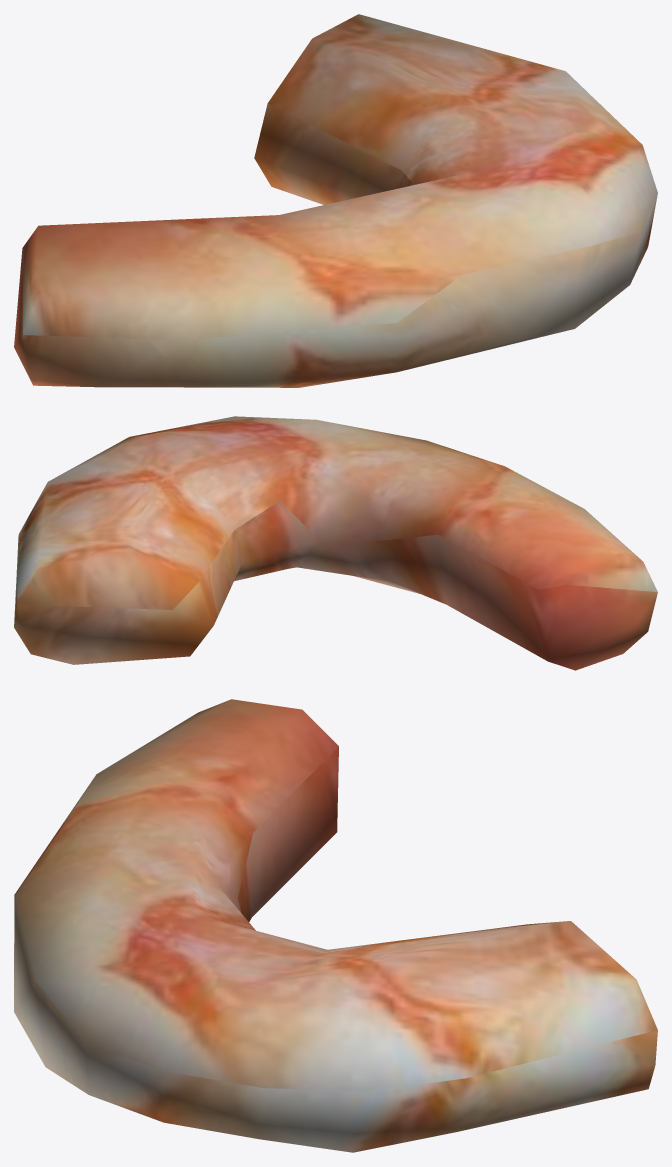
The model's file is shrimp1.fbx.
3 views of the same model, one above another, from view 1: azimuth 30°, elevation 25°; view 2: azimuth 150°, elevation 25°; view 3: azimuth 270°, elevation 25° (orthographic). The views are drawn at different scales.
Parts seen in each view (by area): view 1: Plane; view 2: Plane; view 3: Plane.
Boxes of the visible parts, x1,y1,x2,y2 form: Plane: (14, 14, 657, 387); Plane: (14, 416, 657, 670); Plane: (14, 699, 657, 1152).
Size of the model in its own units: 370 by 71.7 by 285.
